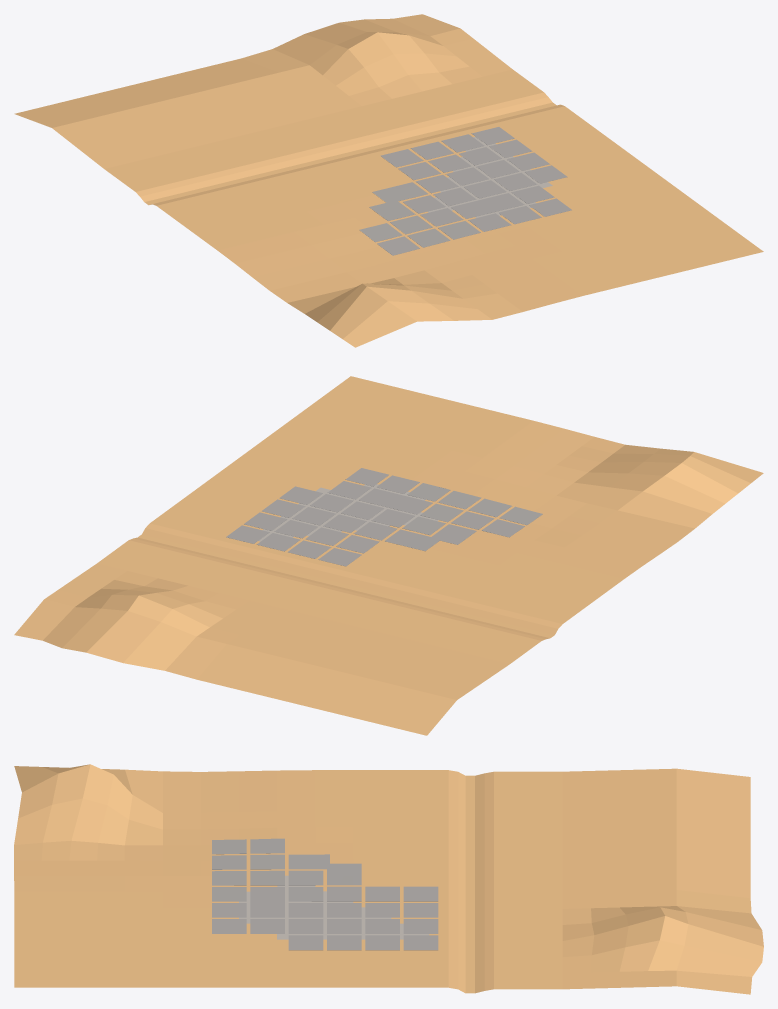
File: Pueblito1.fbx
3 renders of one model, top to bottom at view 1: azimuth 30°, elevation 25°; view 2: azimuth 150°, elevation 25°; view 3: azimuth 270°, elevation 25°, orthographic. The views are drawn at different scales.
Parts seen in each view (by area): view 1: Ground, Veredas; view 2: Ground, Veredas; view 3: Ground, Veredas.
Part boxes in pixels (x1,y1,x2,y2): Ground: (14,14,763,347); Veredas: (359,127,571,255); Ground: (14,376,763,735); Veredas: (226,468,542,566); Ground: (14,764,763,994); Veredas: (212,838,438,950).
Bounding box in the file's own units: 74608 × 6266 × 107574.
